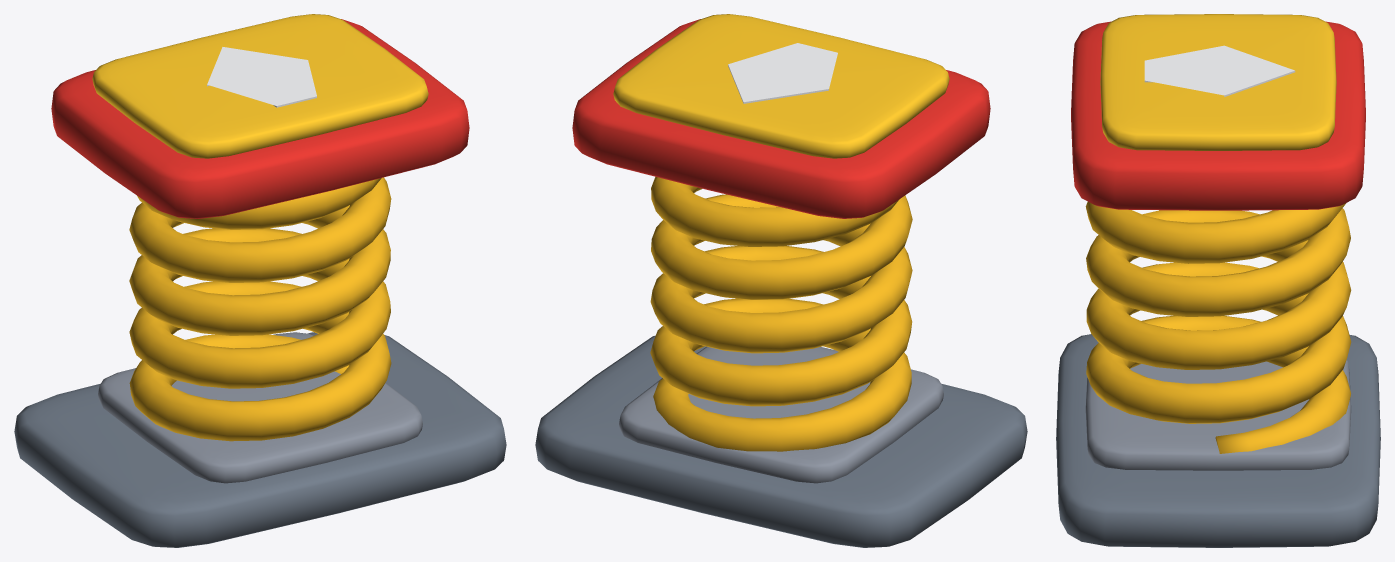
File: spring.glb
3 renders of one model, left to right at view 1: azimuth 30°, elevation 25°; view 2: azimuth 150°, elevation 25°; view 3: azimuth 270°, elevation 25°, orthographic.
Parts seen in each view (by area): view 1: Top, Coil, Base; view 2: Top, Coil, Base; view 3: Top, Coil, Base.
Part boxes in pixels (box(x1,y1,x2,y2)): Top: box(51, 14, 469, 218); Coil: box(129, 177, 391, 441); Base: box(14, 332, 506, 547); Top: box(572, 14, 990, 218); Coil: box(650, 176, 912, 451); Base: box(535, 335, 1027, 547); Top: box(1071, 14, 1365, 210); Coil: box(1085, 201, 1351, 453); Base: box(1056, 334, 1380, 547).
Size of the model in its own units: 1.5 by 1.47 by 1.1.
